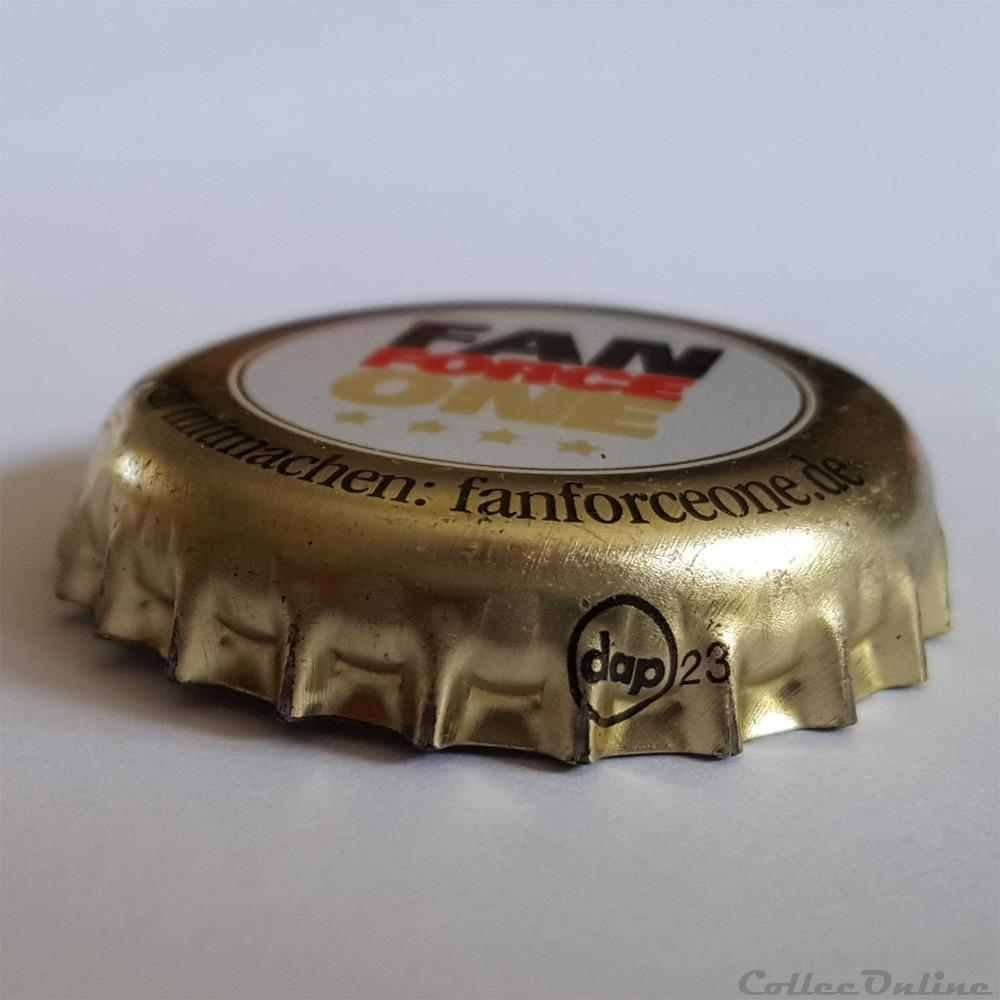metal: (57, 303, 952, 764)
